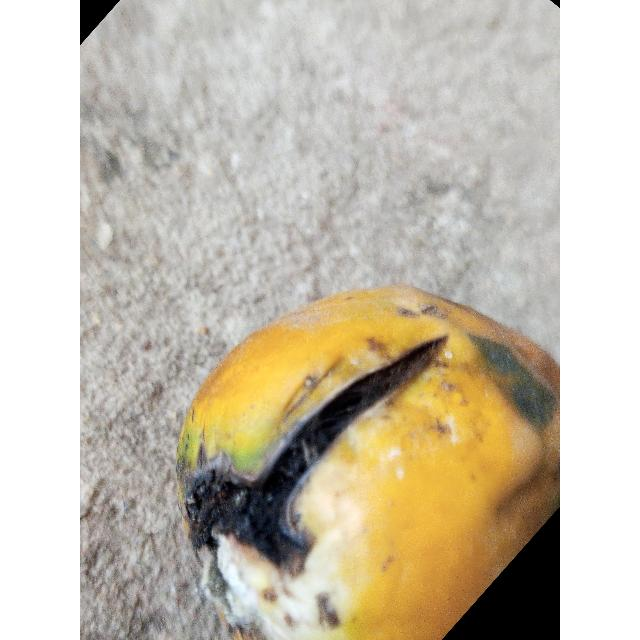damaged: (175, 286, 560, 640)
